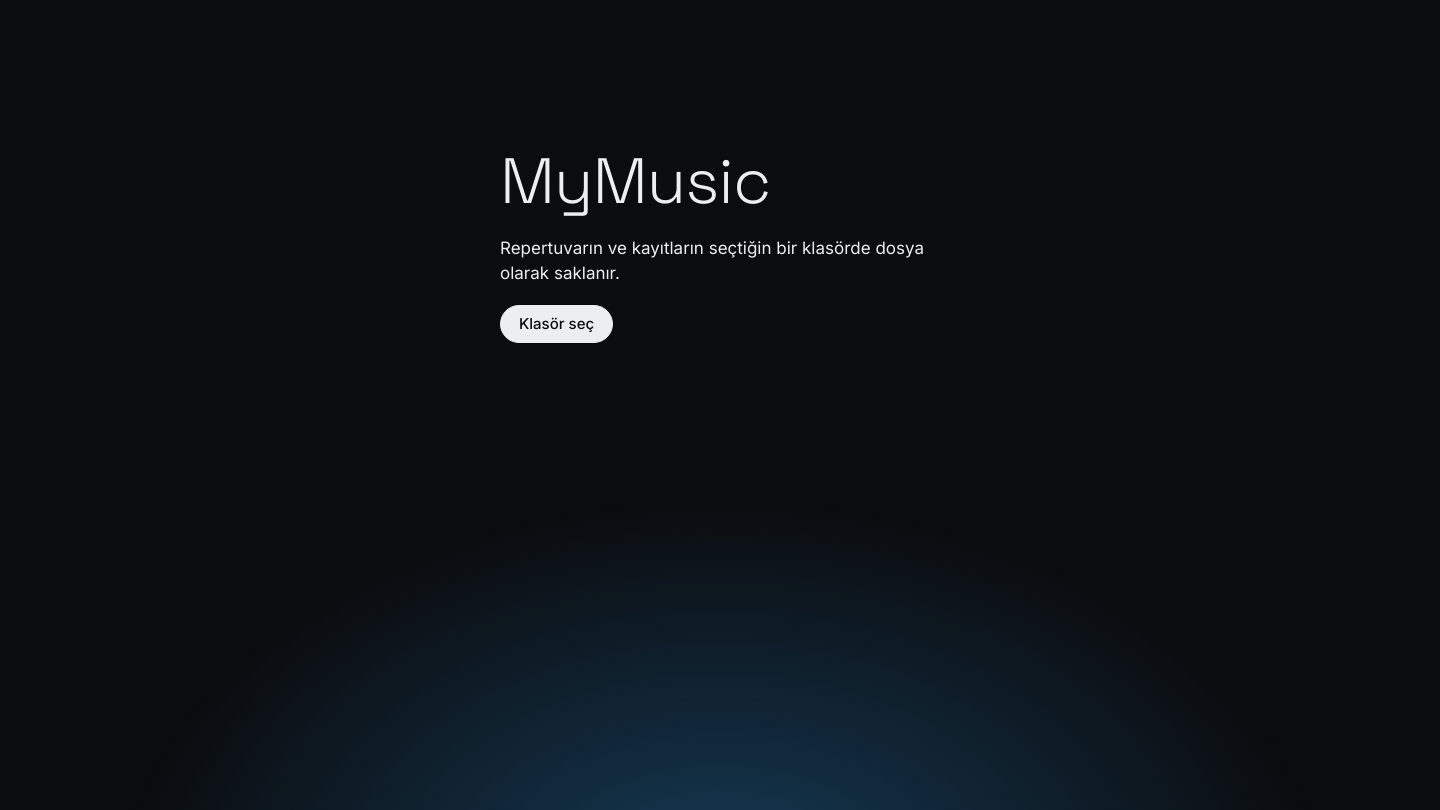
it: App shell › pick failure shows a note
The image size is (1440, 810).
Click the button "Klasör seç": click(557, 324) [500, 306, 613, 344]
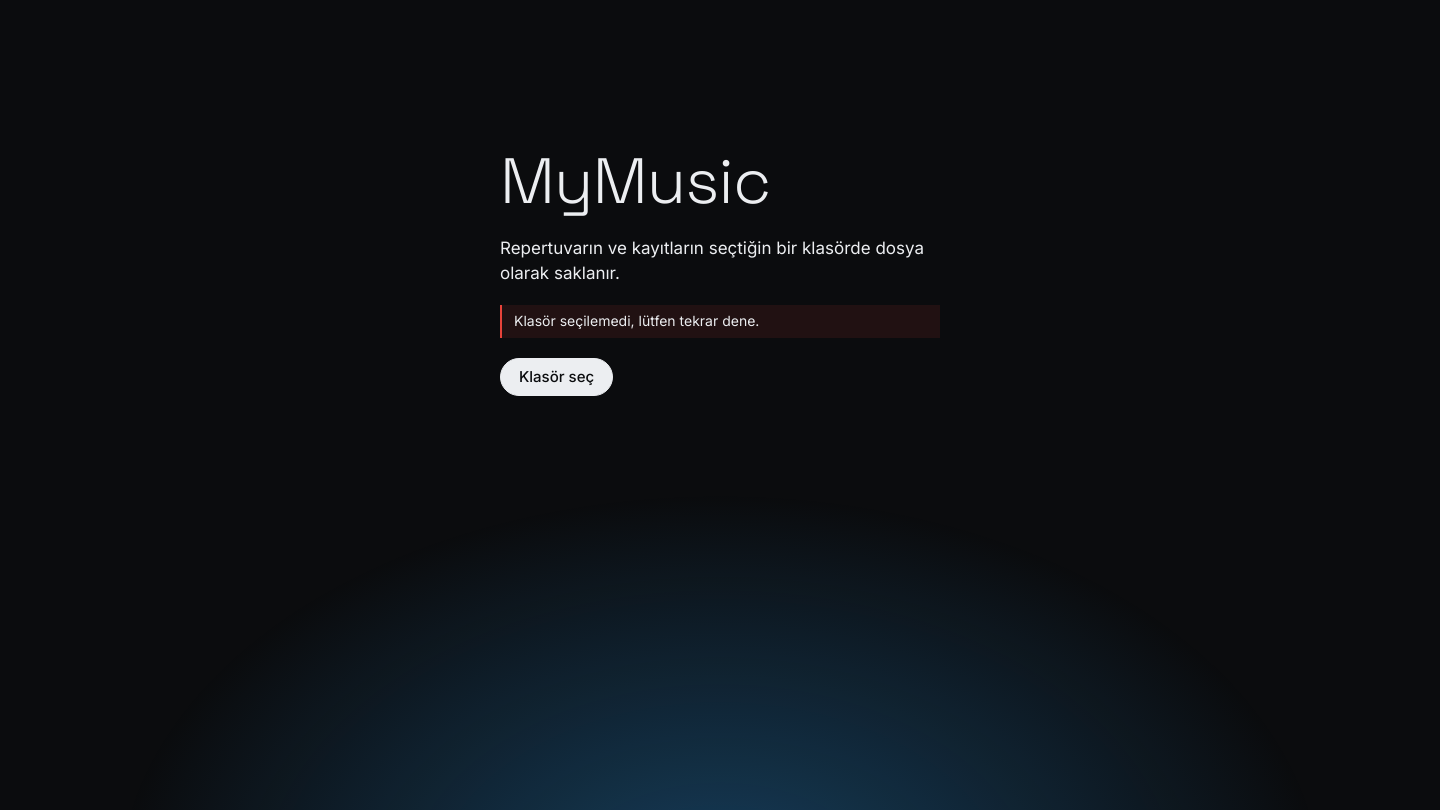
Expected: the text "Klasör seçilemedi, lütfen tekrar dene." is shown, [500, 306, 940, 338]
